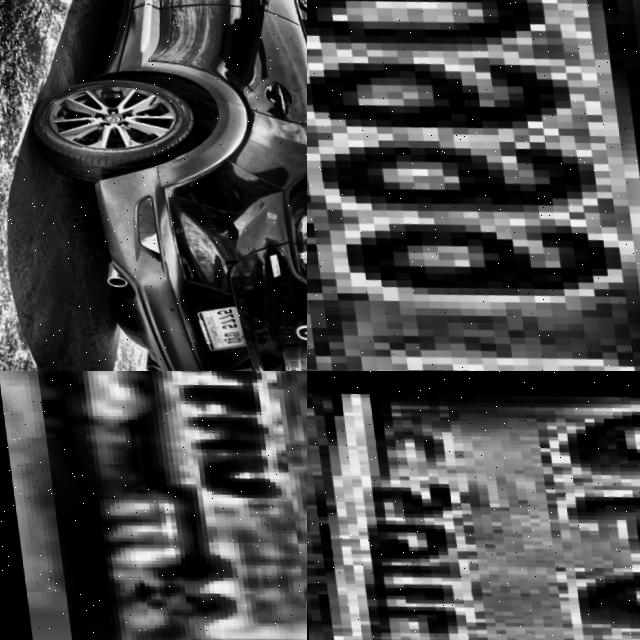license-plate: (307, 0, 640, 371), (307, 371, 640, 640), (8, 371, 307, 640), (188, 295, 245, 348)
